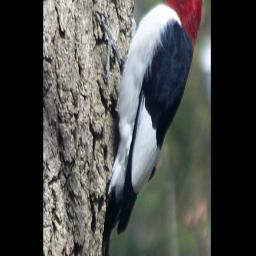Woodpecker: (91, 0, 204, 243)
